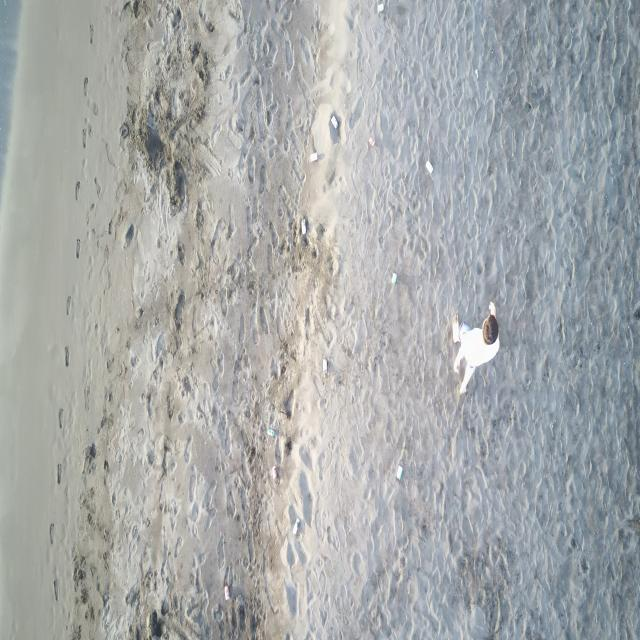tin-and-aluminum-cans: (394, 462, 404, 481), (424, 158, 434, 176), (224, 584, 231, 602), (330, 115, 339, 129), (293, 518, 300, 534), (322, 357, 328, 375), (301, 218, 307, 235), (272, 464, 277, 482), (310, 151, 318, 162), (392, 272, 398, 286), (377, 2, 384, 14), (267, 428, 275, 438), (368, 136, 375, 147)
